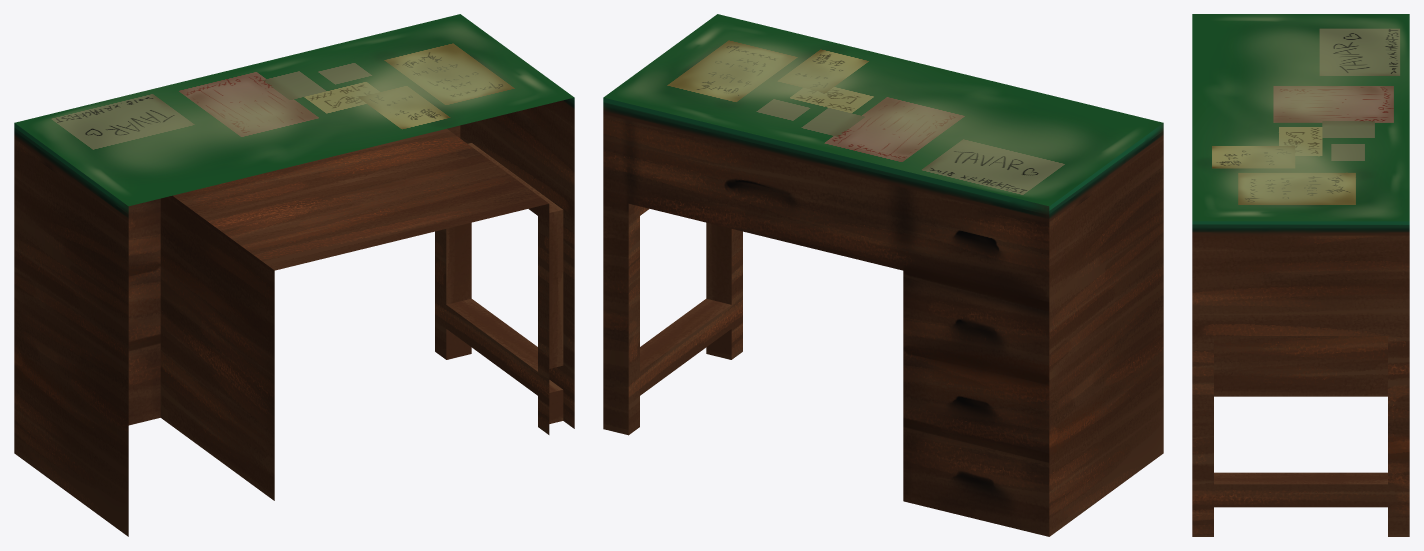
Rendered from GPA_desk.FBX.
3 renders of one model, left to right at view 1: azimuth 30°, elevation 25°; view 2: azimuth 150°, elevation 25°; view 3: azimuth 270°, elevation 25°, orthographic. The views are drawn at different scales.
Visible parts, largest first — view 1: GPA_desk; view 2: GPA_desk; view 3: GPA_desk.
Boxes of the visible parts, x1,y1,x2,y2 form: GPA_desk: [14, 14, 574, 536]; GPA_desk: [603, 14, 1163, 536]; GPA_desk: [1192, 14, 1409, 536].
Bounding box in the file's own units: 111 × 78.78 × 49.16.
Materials: 1 (1 with a texture image).
